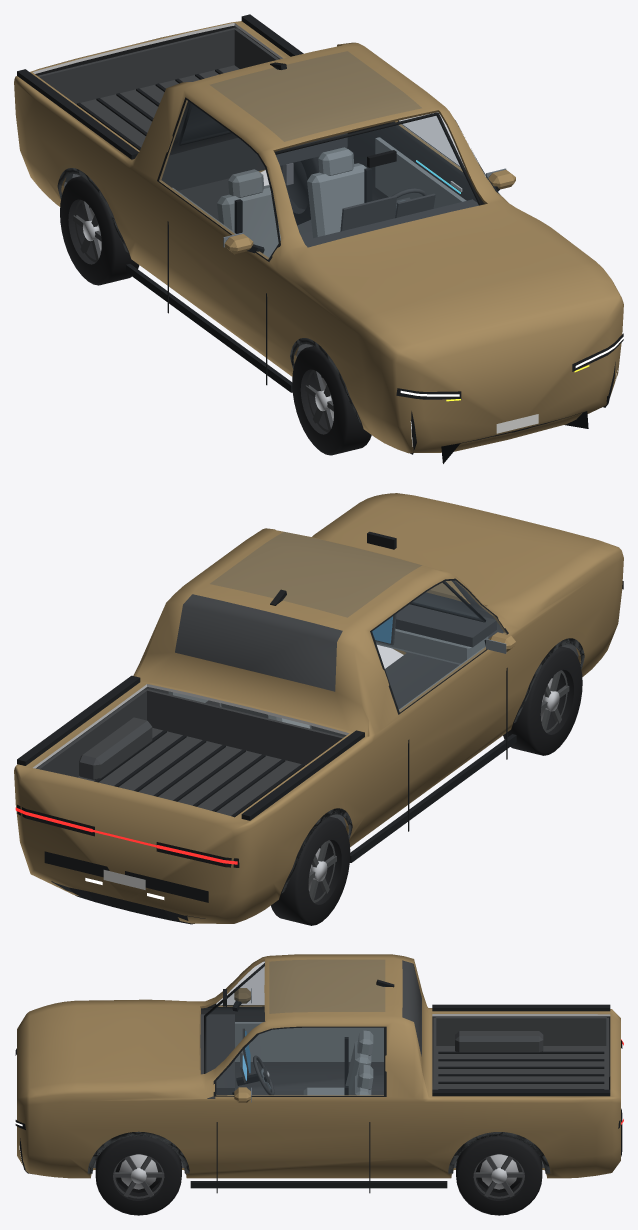
File: trail-pickup.glb
3 views of the same model, one above another, from view 1: azimuth 30°, elevation 25°; view 2: azimuth 150°, elevation 25°; view 3: azimuth 270°, elevation 25° (orthographic). The views are drawn at different scales.
Visible parts, largest first — view 1: Body, Surface_CarRoot_Glass, Surface_CarRoot_InteriorDark, Surface_CarRoot_BlackTrim, Interior_CarRoot_InteriorLeather, Surface_WheelFrontR_Tyre, Surface_WheelRearR_Tyre, Interior_CarRoot_InteriorDark, Surface_WheelRearL_Tyre, Surface_CarRoot_Cladding, Interior_CarRoot_BlackTrim, Surface_CarRoot_Paint (+2 smaller); view 2: Body, Surface_CarRoot_InteriorDark, Surface_CarRoot_Glass, Surface_CarRoot_BlackTrim, Surface_WheelRearR_Tyre, Surface_WheelFrontR_Tyre, Interior_CarRoot_InteriorDark, Interior_CarRoot_InteriorLeather, Surface_CarRoot_Cladding, Surface_CarRoot_Taillight, Surface_WheelRearR_Rim, Surface_WheelFrontR_Rim; view 3: Body, Surface_CarRoot_Glass, Surface_CarRoot_InteriorDark, Surface_CarRoot_BlackTrim, Interior_CarRoot_InteriorLeather, Surface_WheelFrontL_Tyre, Surface_WheelRearL_Tyre, Interior_CarRoot_InteriorDark, Surface_CarRoot_Cladding, Surface_WheelRearL_Rim, Surface_WheelFrontL_Rim, WheelFrontL_BrakeDisc (+3 smaller).
Part boxes in pixels (x1=…): Body: x1=14, y1=21, x2=623, y2=453; Surface_CarRoot_Glass: x1=159, y1=51, x2=499, y2=258; Surface_CarRoot_InteriorDark: x1=37, y1=28, x2=347, y2=190; Surface_CarRoot_BlackTrim: x1=17, y1=14, x2=623, y2=463; Interior_CarRoot_InteriorLeather: x1=172, y1=137, x2=466, y2=257; Surface_WheelFrontR_Tyre: x1=292, y1=346, x2=371, y2=455; Surface_WheelRearR_Tyre: x1=60, y1=176, x2=139, y2=285; Interior_CarRoot_InteriorDark: x1=296, y1=193, x2=478, y2=355; Surface_WheelRearL_Tyre: x1=280, y1=156, x2=319, y2=225; Surface_CarRoot_Cladding: x1=57, y1=168, x2=360, y2=422; Interior_CarRoot_BlackTrim: x1=234, y1=150, x2=396, y2=233; Surface_CarRoot_Paint: x1=224, y1=170, x2=515, y2=254; Body: x1=14, y1=493, x2=623, y2=923; Surface_CarRoot_InteriorDark: x1=37, y1=689, x2=343, y2=815; Surface_CarRoot_Glass: x1=210, y1=532, x2=505, y2=711; Surface_CarRoot_BlackTrim: x1=17, y1=578, x2=623, y2=924; Surface_WheelRearR_Tyre: x1=271, y1=816, x2=350, y2=925; Surface_WheelFrontR_Tyre: x1=503, y1=646, x2=582, y2=755; Interior_CarRoot_InteriorDark: x1=375, y1=600, x2=496, y2=709; Interior_CarRoot_InteriorLeather: x1=168, y1=628, x2=488, y2=736; Surface_CarRoot_Cladding: x1=281, y1=638, x2=584, y2=893; Surface_CarRoot_Taillight: x1=15, y1=807, x2=237, y2=864; Surface_WheelRearR_Rim: x1=308, y1=840, x2=336, y2=902; Surface_WheelFrontR_Rim: x1=541, y1=670, x2=569, y2=732; Body: x1=17, y1=954, x2=620, y2=1178; Surface_CarRoot_Glass: x1=206, y1=960, x2=384, y2=1095; Surface_CarRoot_InteriorDark: x1=433, y1=1017, x2=608, y2=1089; Surface_CarRoot_BlackTrim: x1=15, y1=963, x2=622, y2=1193; Interior_CarRoot_InteriorLeather: x1=235, y1=1022, x2=383, y2=1095; Surface_WheelFrontL_Tyre: x1=95, y1=1136, x2=181, y2=1215; Surface_WheelRearL_Tyre: x1=456, y1=1136, x2=542, y2=1215; Interior_CarRoot_InteriorDark: x1=200, y1=1014, x2=383, y2=1095; Surface_CarRoot_Cladding: x1=87, y1=1131, x2=550, y2=1173; Surface_WheelRearL_Rim: x1=473, y1=1156, x2=524, y2=1198; Surface_WheelFrontL_Rim: x1=113, y1=1156, x2=164, y2=1198; WheelFrontL_BrakeDisc: x1=119, y1=1154, x2=157, y2=1189.
Bounding box in the file's own units: 2.32 × 1.9 × 5.52.
